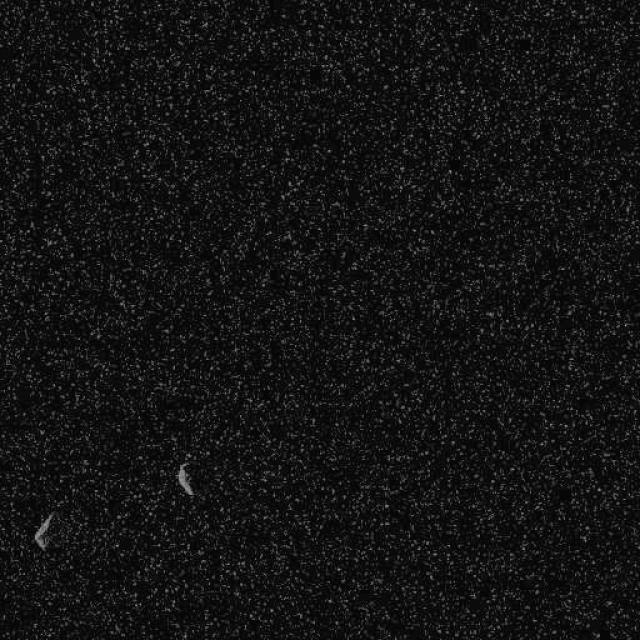D2: (32, 510, 56, 550), (175, 462, 195, 496)
